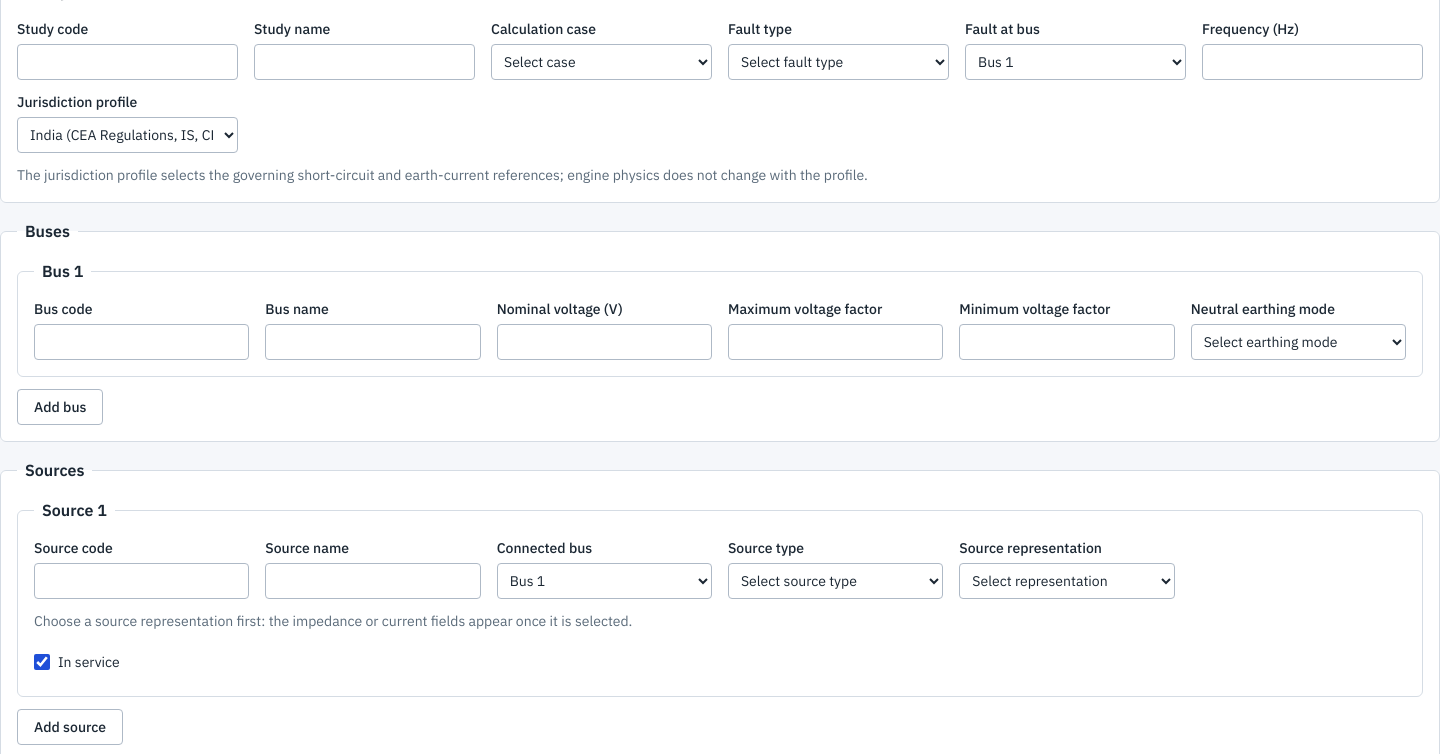
FaultStudyForm › adds and removes rows and never removes the last bus or source
Click the button "Add source". click: (70, 727)
box: [17, 709, 123, 745]
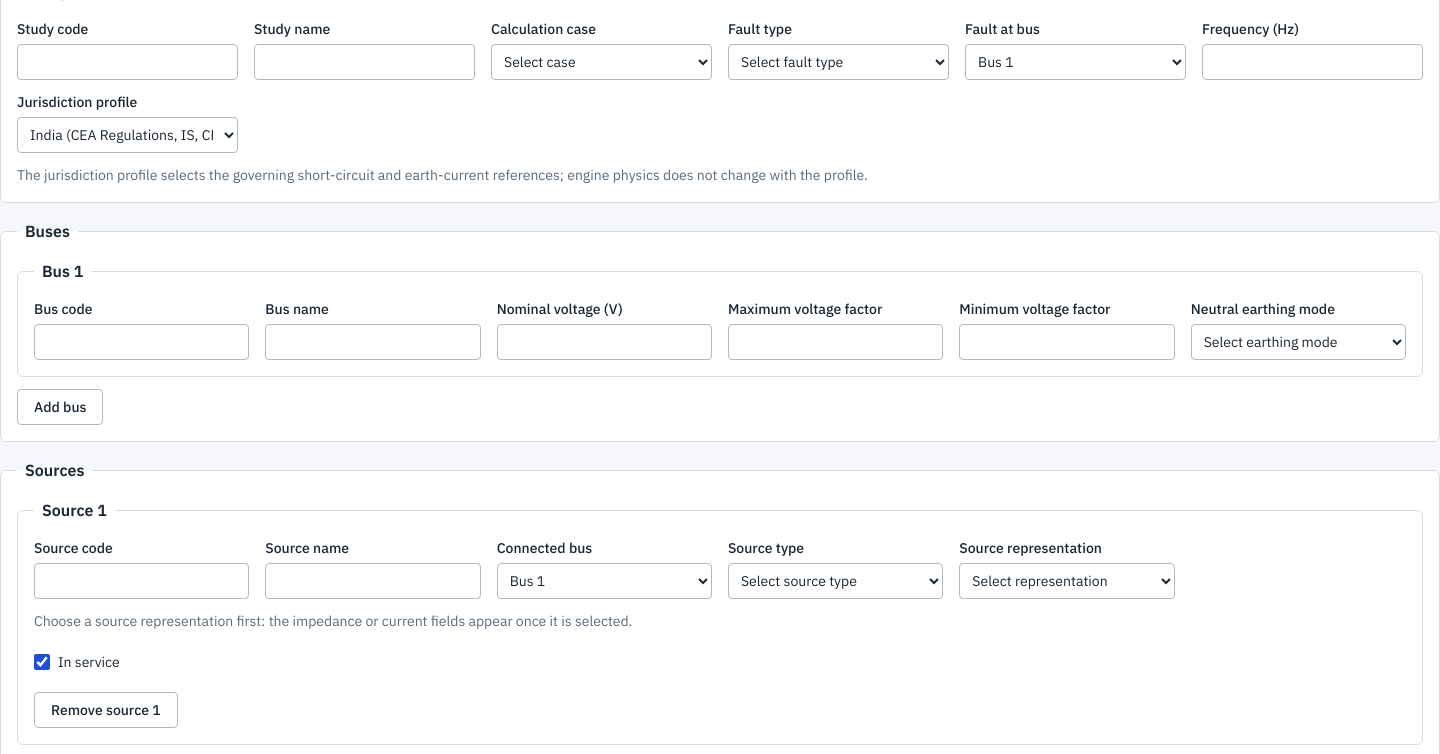
Click the button "Remove source 1". click: (106, 710)
box: [34, 692, 178, 728]
(page scrolled)
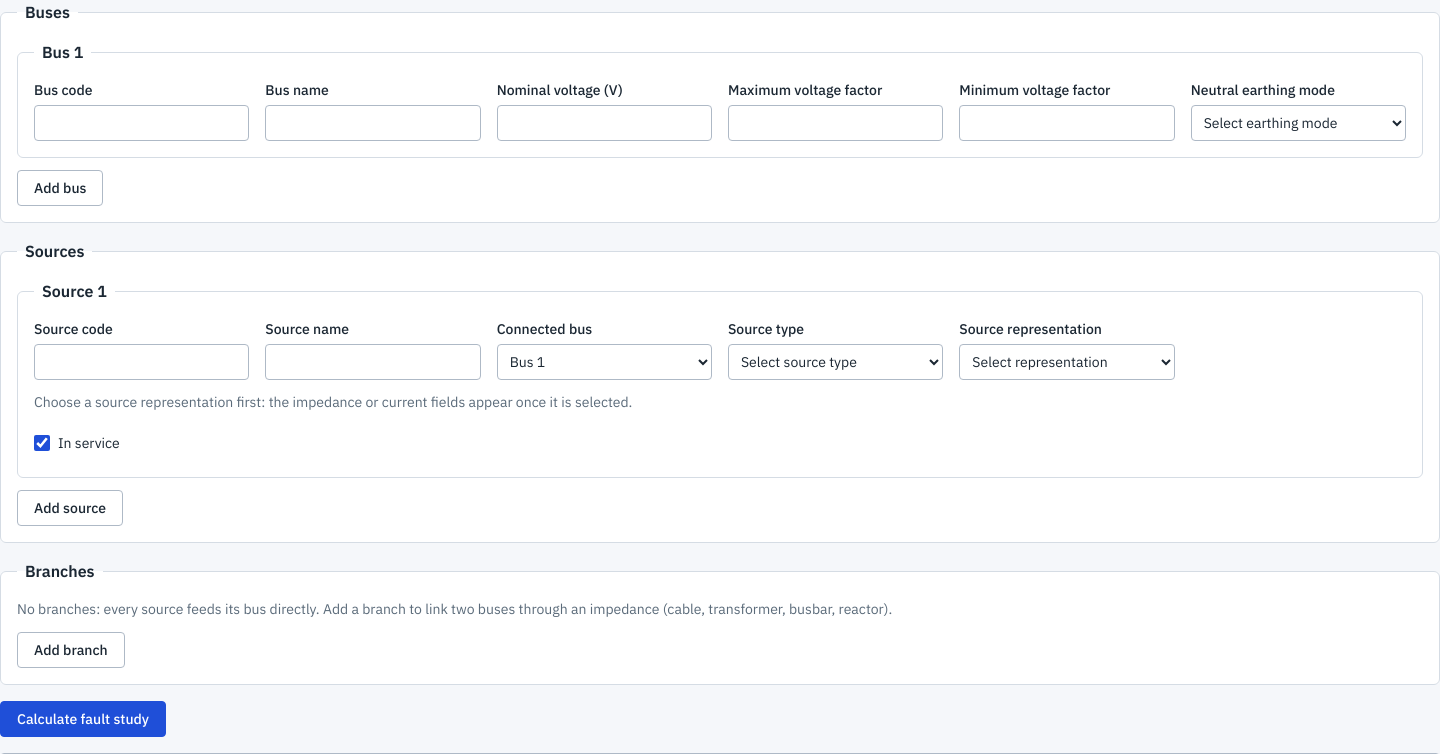
Check: the button "Remove source" is gone
Click the button "Add branch". click: (71, 650)
box: [17, 632, 125, 668]
(page scrolled)
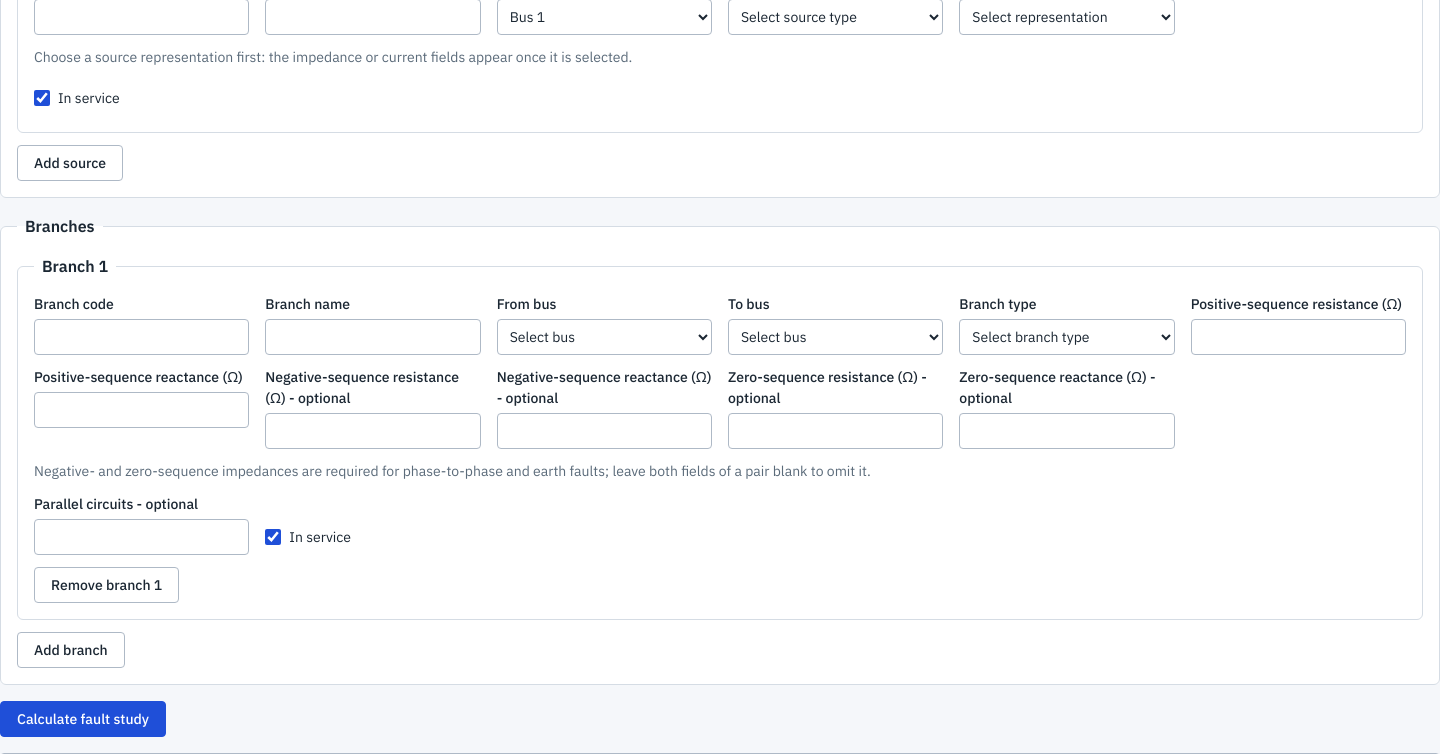
Click the button "Remove branch 1". click: (107, 585)
box: [34, 567, 179, 603]
(page scrolled)
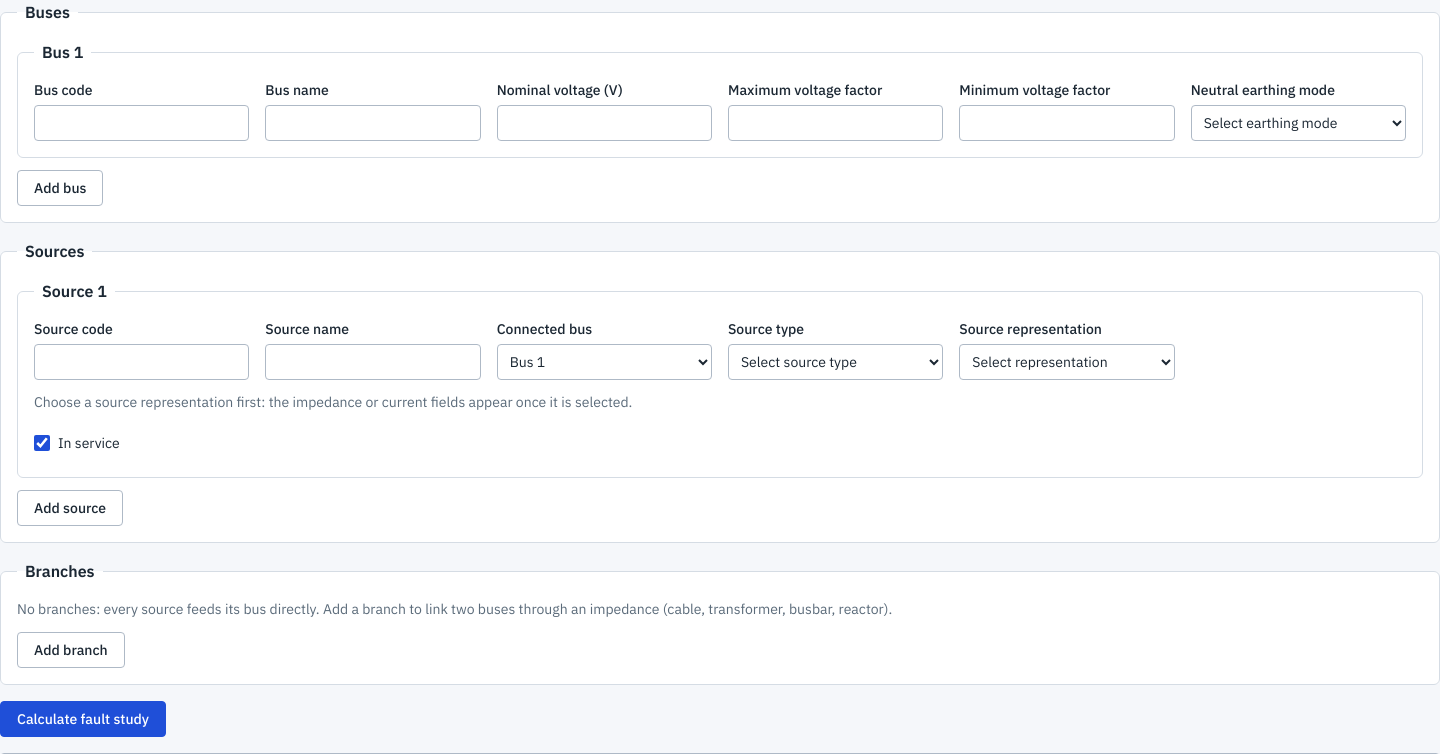
Check: the text "Branch 1" is gone
